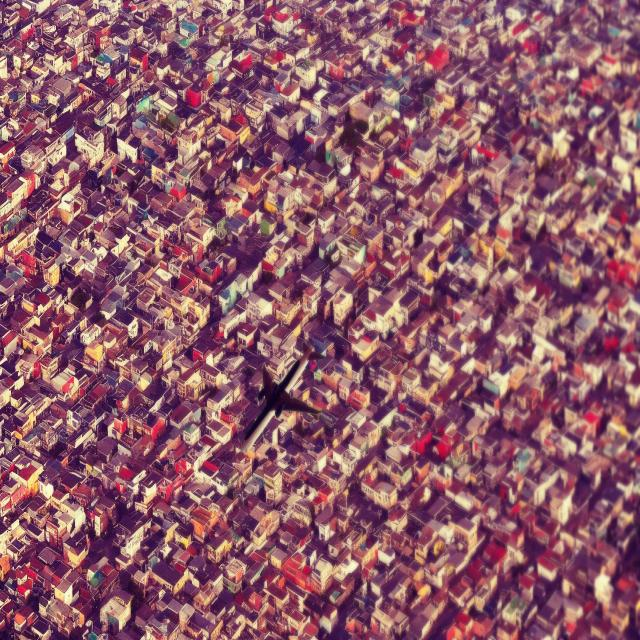airplane: (239, 349, 312, 452)
